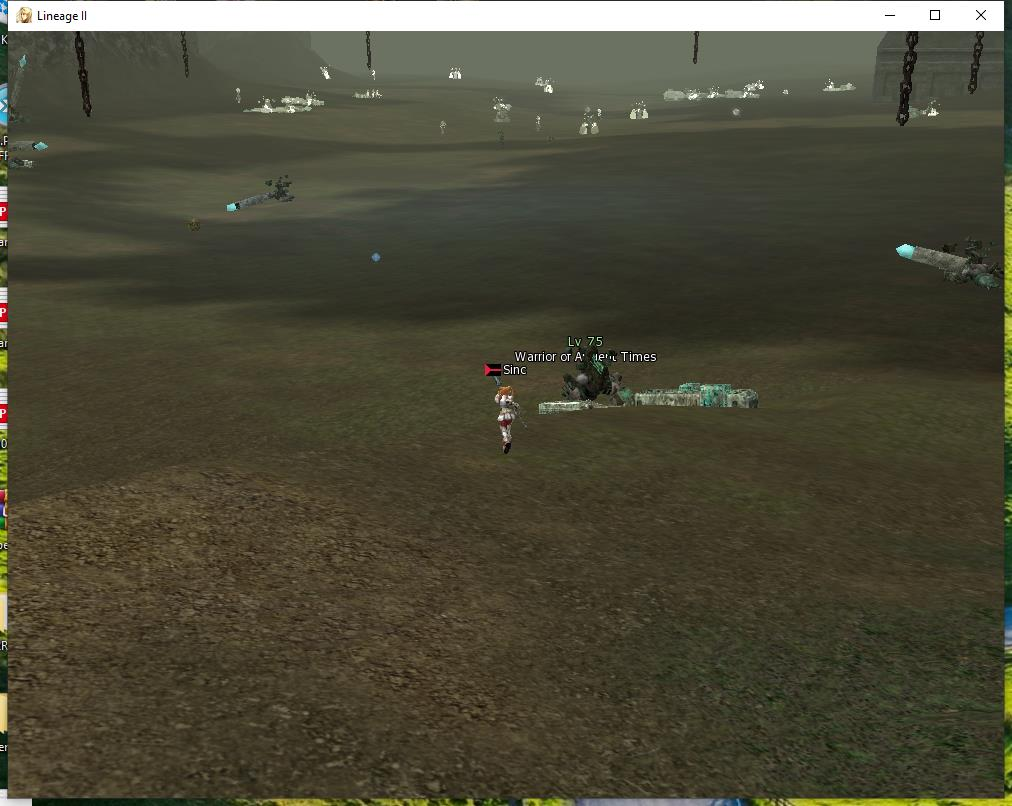monster: (498, 323, 767, 421), (890, 220, 999, 297), (216, 165, 304, 217), (1, 130, 61, 182), (239, 97, 312, 121), (621, 92, 663, 125), (898, 94, 948, 120), (576, 99, 599, 136), (190, 215, 208, 238), (439, 117, 451, 139), (502, 130, 515, 149), (731, 108, 747, 117), (534, 117, 542, 132)
